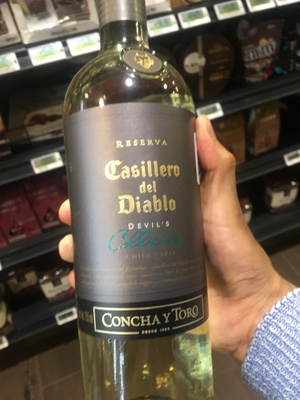casillero del diablo devils collection verde: (55, 4, 227, 387)
